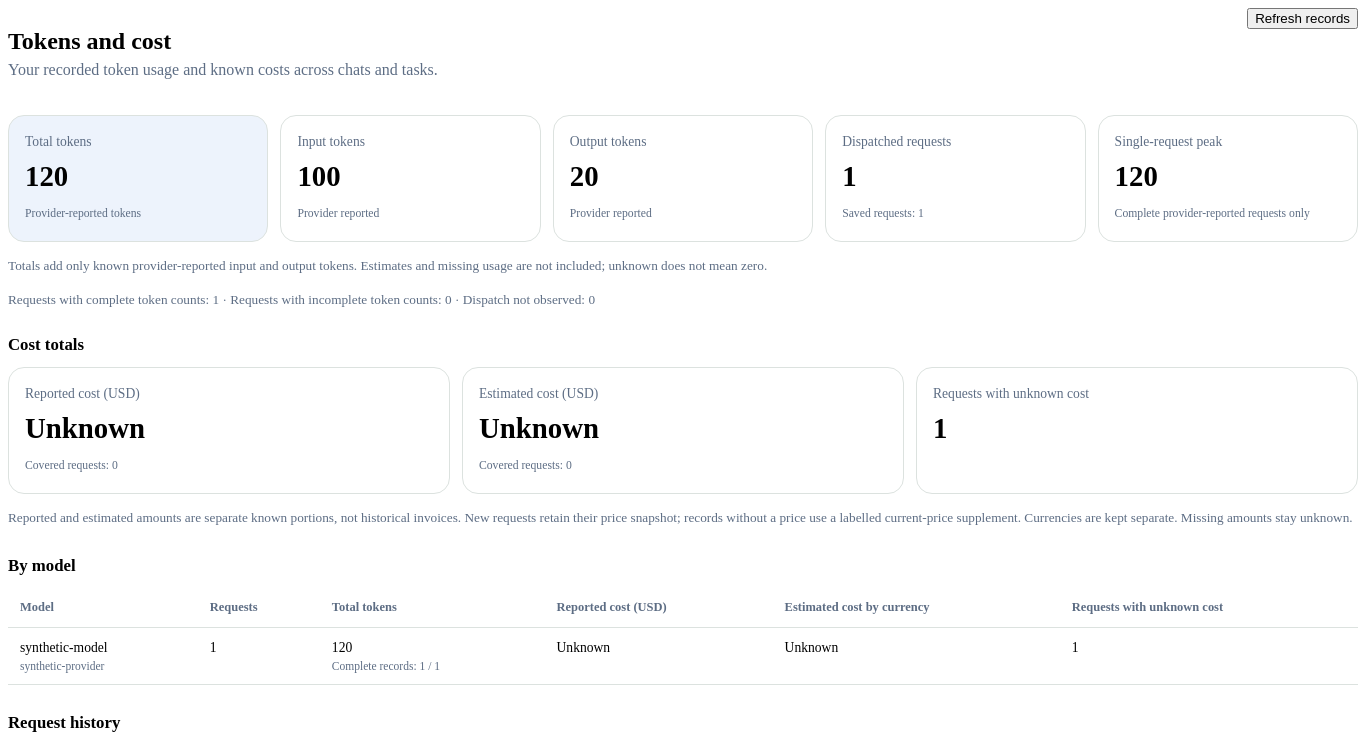
it: token usage records › retains the last authoritative snapshot when refresh fails instead of replacing it with a false empty or zero state
Click the button "Refresh records": (1303, 18) [1247,8,1358,29]
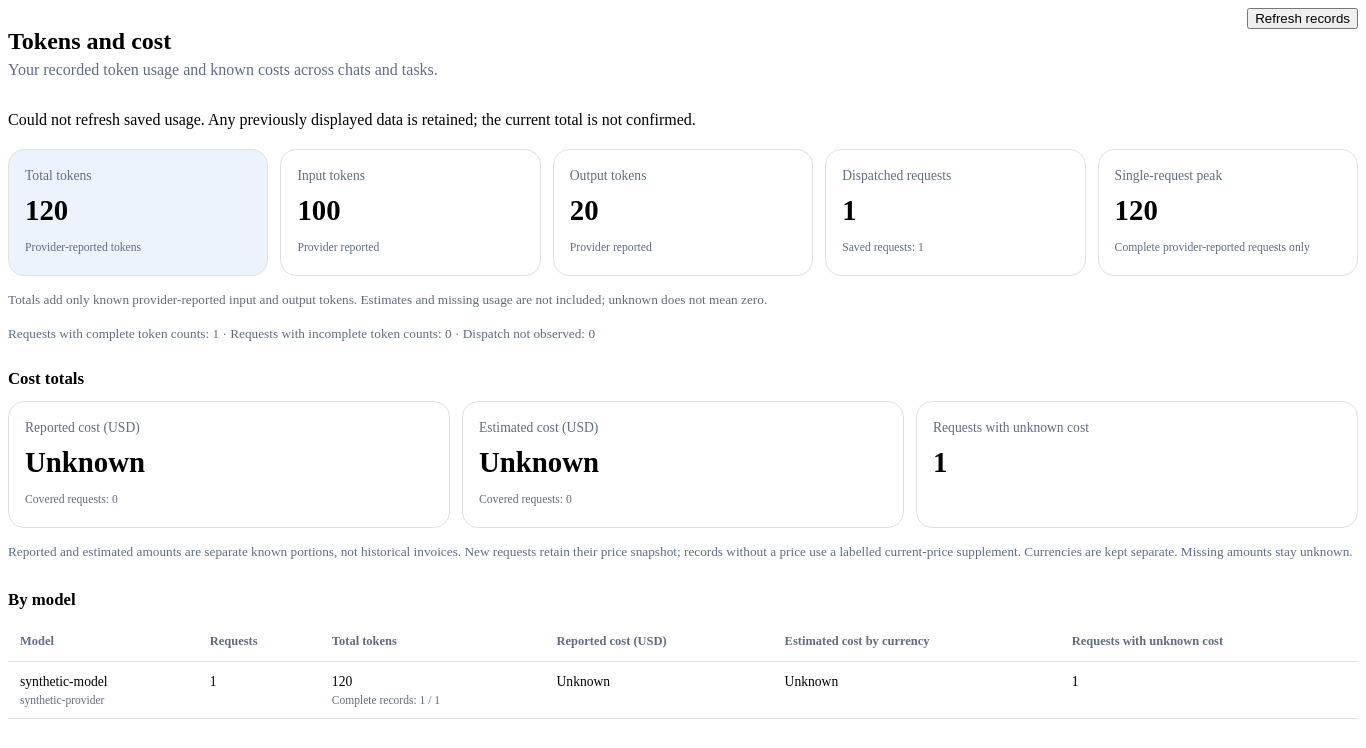
Expected: the 1st text "120" is shown, [25,194,68,226]
Result: the message shows "previously displayed data is retained" at [8,111,696,128]
